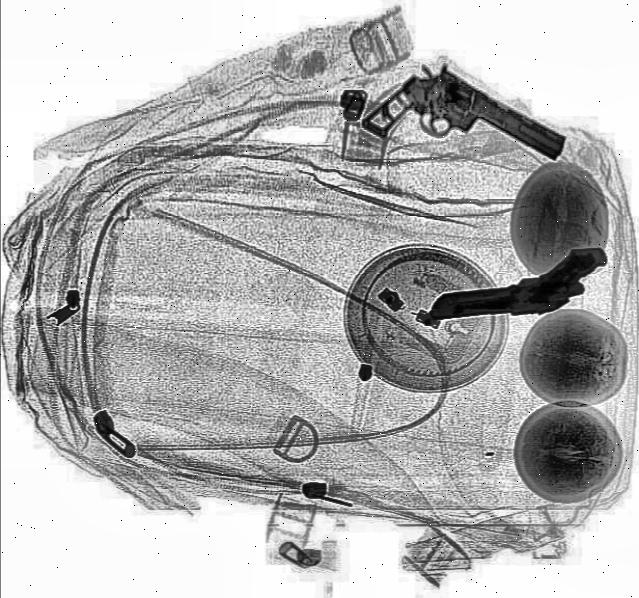Gun: (358, 46, 574, 212), (428, 248, 608, 318)
